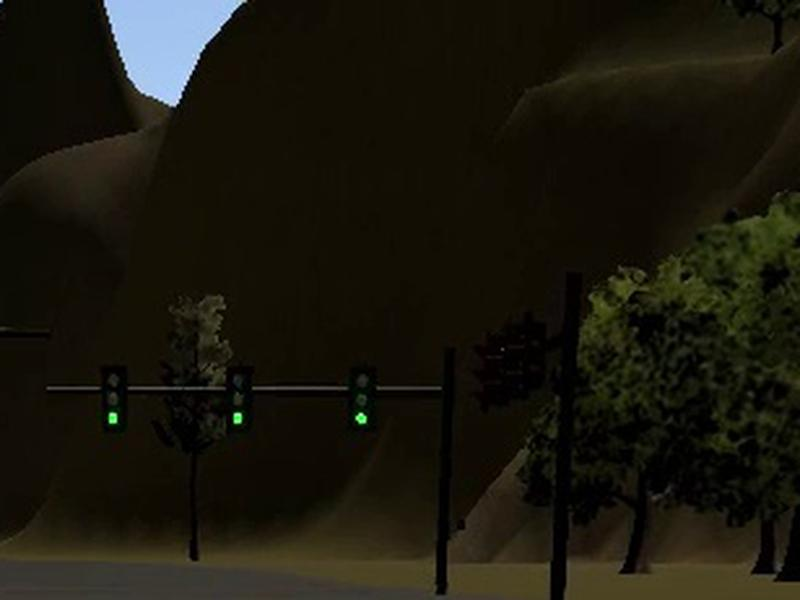Green: (100, 364, 128, 431), (226, 365, 252, 433), (350, 368, 376, 431)
